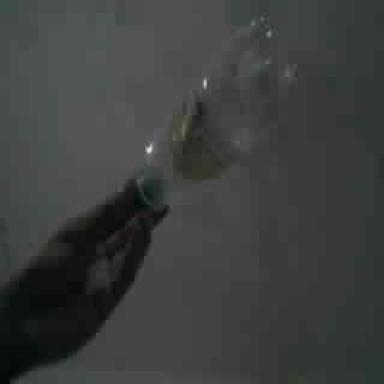bottle: (137, 18, 295, 205)
